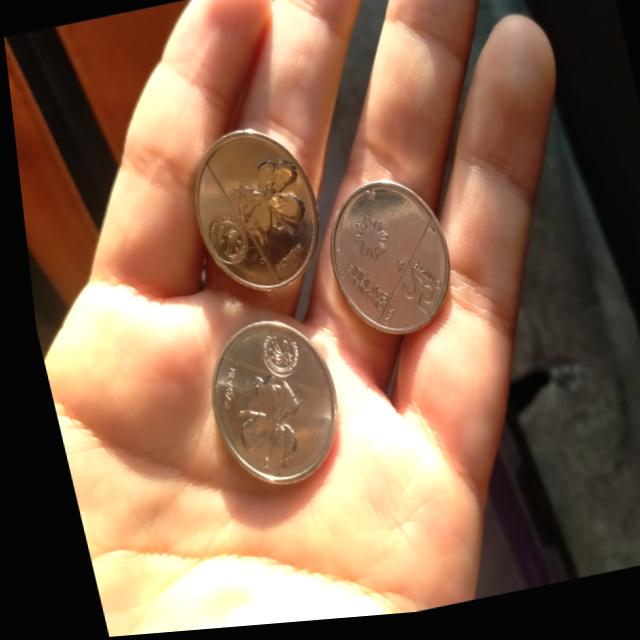25Cent_New_Back: (220, 158, 312, 258)
25Cent_New_Front: (386, 259, 446, 329)
